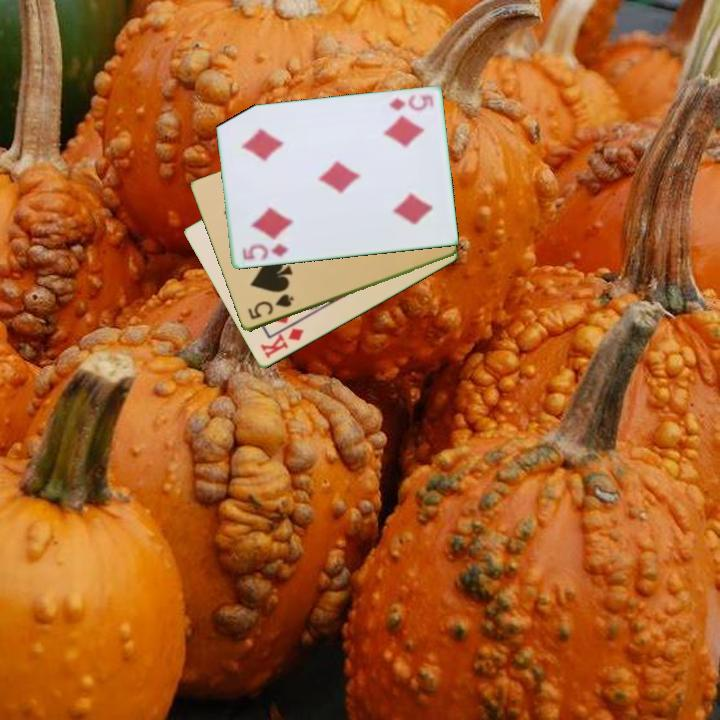5d: (239, 240, 291, 263), (385, 91, 436, 114)
5s: (244, 291, 297, 323)
Kd: (256, 325, 307, 362)
